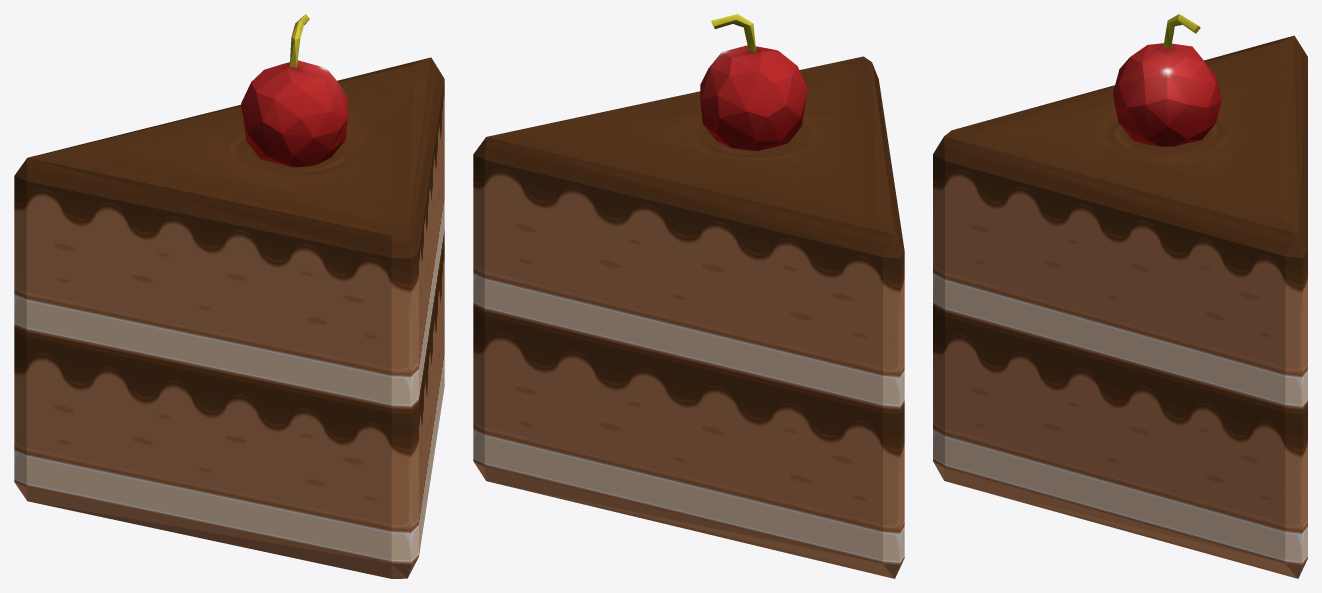
Rendered from FOD0110004.fbx.
The picture shows the model from 3 angles, left to right: view 1: azimuth 30°, elevation 25°; view 2: azimuth 150°, elevation 25°; view 3: azimuth 270°, elevation 25°; orthographic projection.
Visible parts, largest first — view 1: smFOD0110004; view 2: smFOD0110004; view 3: smFOD0110004.
Part boxes in pixels (x1,y1,x2,y2): smFOD0110004: [14, 14, 444, 578]; smFOD0110004: [473, 14, 904, 578]; smFOD0110004: [933, 14, 1307, 578].
Size of the model in its own units: 9.72 by 10.38 by 7.39.
Materials: 1 (1 with a texture image).
